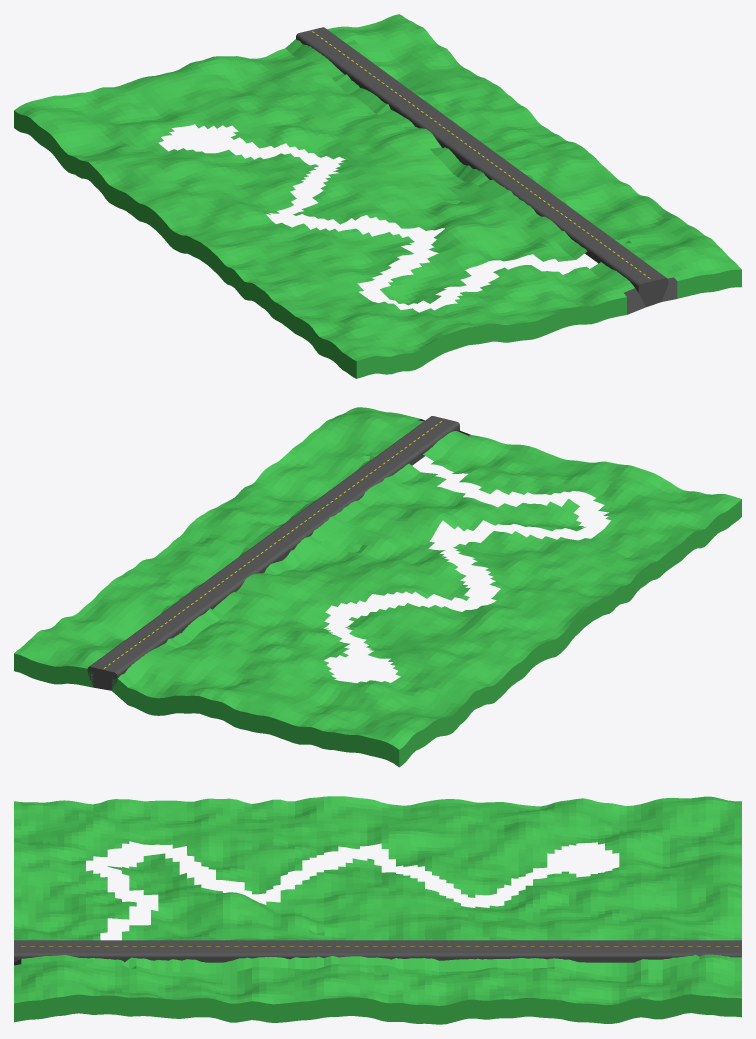
Rendered from grass.gltf.
3 renders of one model, top to bottom at view 1: azimuth 30°, elevation 25°; view 2: azimuth 150°, elevation 25°; view 3: azimuth 270°, elevation 25°, orthographic. The views are drawn at different scales.
Visible parts, largest first — view 1: Plane.001; view 2: Plane.001; view 3: Plane.001.
Part boxes in pixels (x1,y1,x2,y2): Plane.001: (14,14,741,378); Plane.001: (14,407,741,767); Plane.001: (14,796,741,1024).
Size of the model in its own units: 25.97 by 2.42 by 40.
